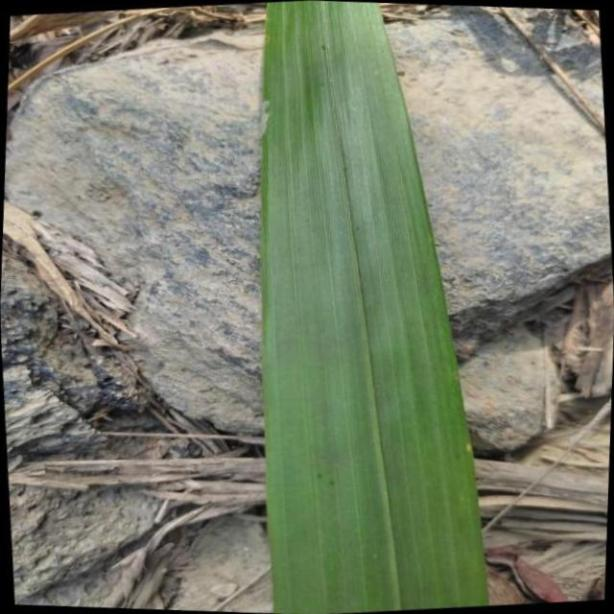Healthy: (259, 6, 486, 614)
